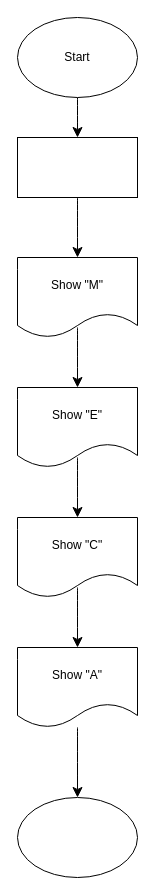
The diagram is 155 pixels wide and 895 high, and some of its shapes have lost their labels. Here are the shapes that lost their labels. From the top down, the centre of each, then its label:
the point at 77,167: funtion Showname
the point at 77,837: finish
